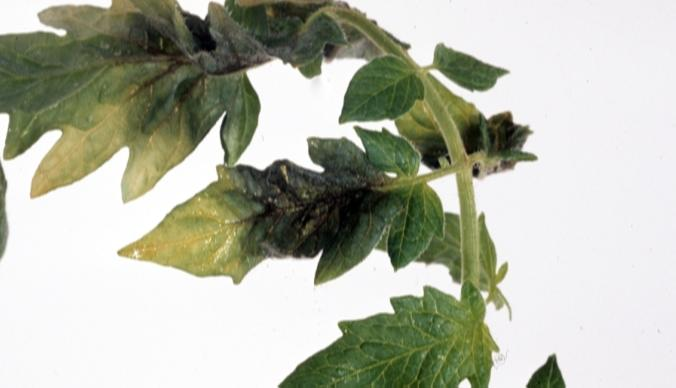Tomato leaf late blight: (113, 135, 441, 295), (0, 7, 261, 201), (242, 272, 530, 388)
